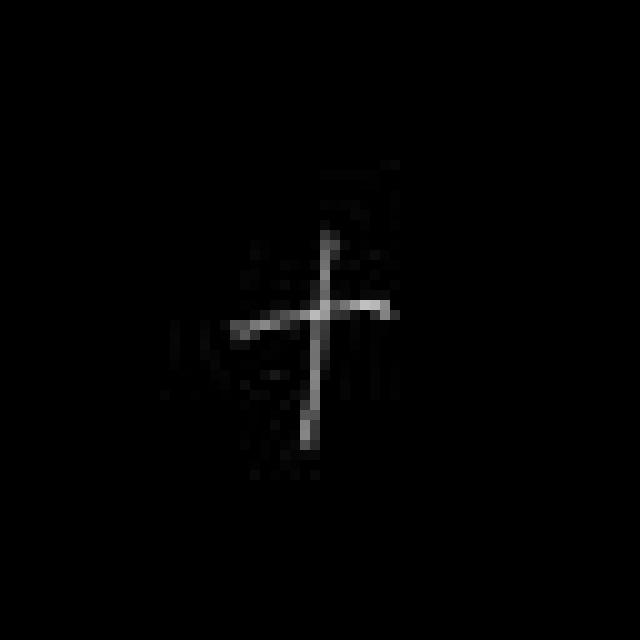10 -ten-: (220, 233, 405, 458)
